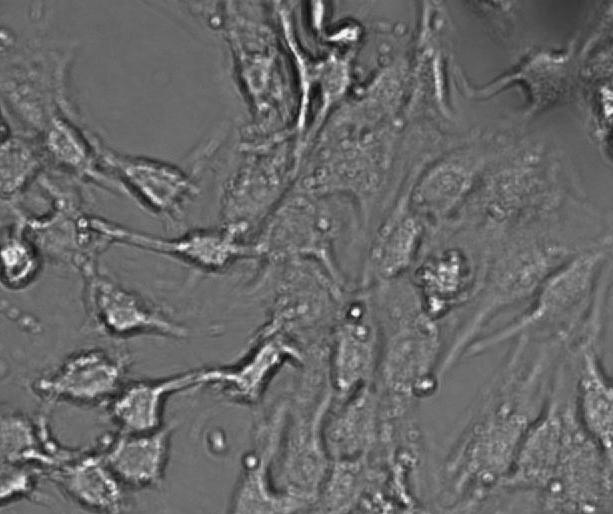Dead: (276, 1, 369, 134), (413, 245, 475, 326), (1, 230, 46, 293)
